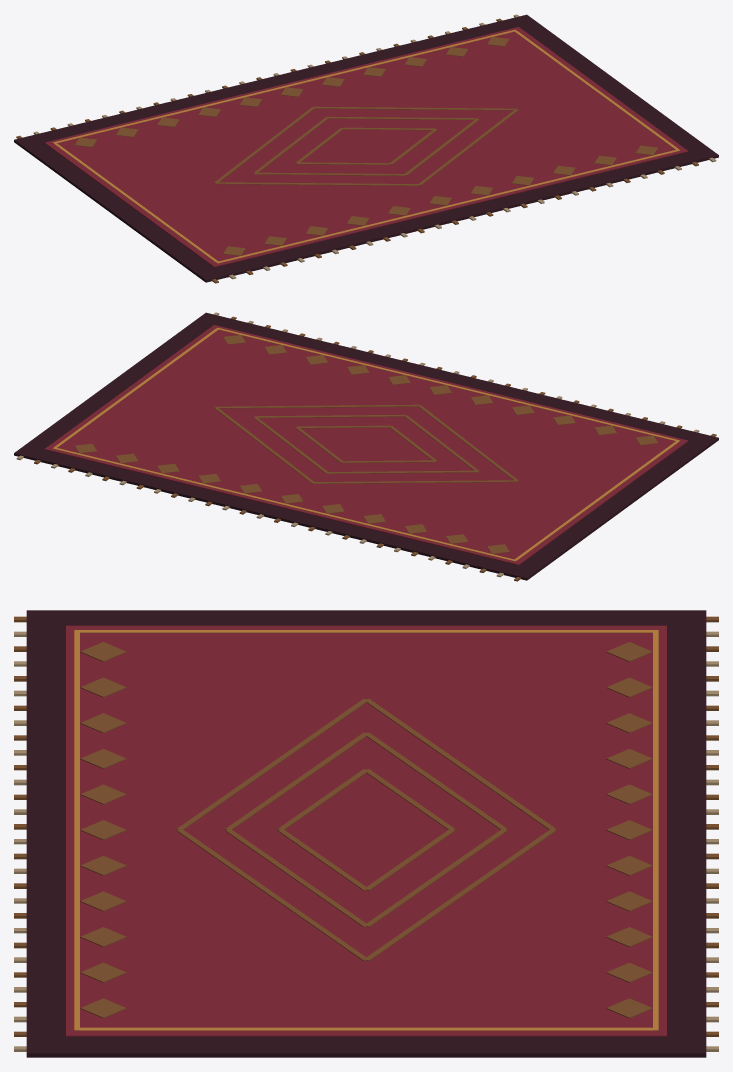
The model's file is mia-rug.glb.
3 views of the same model, one above another, from view 1: azimuth 30°, elevation 25°; view 2: azimuth 150°, elevation 25°; view 3: azimuth 270°, elevation 25° (orthographic). The views are drawn at different scales.
Parts seen in each view (by area): view 1: Body_velvet, Body_dark, Body_oak, Body_brass, Body_page-beige; view 2: Body_velvet, Body_dark, Body_oak, Body_brass, Body_page-beige; view 3: Body_velvet, Body_dark, Body_oak, Body_brass, Body_page-beige.
Part boxes in pixels (x1,y1,x2,y2): Body_velvet: [44, 27, 688, 267]; Body_dark: [14, 14, 718, 282]; Body_oak: [16, 18, 698, 283]; Body_brass: [52, 29, 679, 263]; Body_page-beige: [33, 14, 716, 279]; Body_velvet: [44, 325, 688, 565]; Body_dark: [14, 312, 718, 580]; Body_oak: [34, 316, 716, 581]; Body_brass: [53, 327, 680, 561]; Body_page-beige: [16, 312, 699, 577]; Body_velvet: [66, 625, 666, 1036]; Body_dark: [26, 610, 706, 1057]; Body_oak: [14, 616, 718, 1036]; Body_brass: [74, 630, 658, 1030]; Body_page-beige: [14, 631, 718, 1051].
Bounding box in the file's own units: 3.98 × 0.0275 × 2.67.
